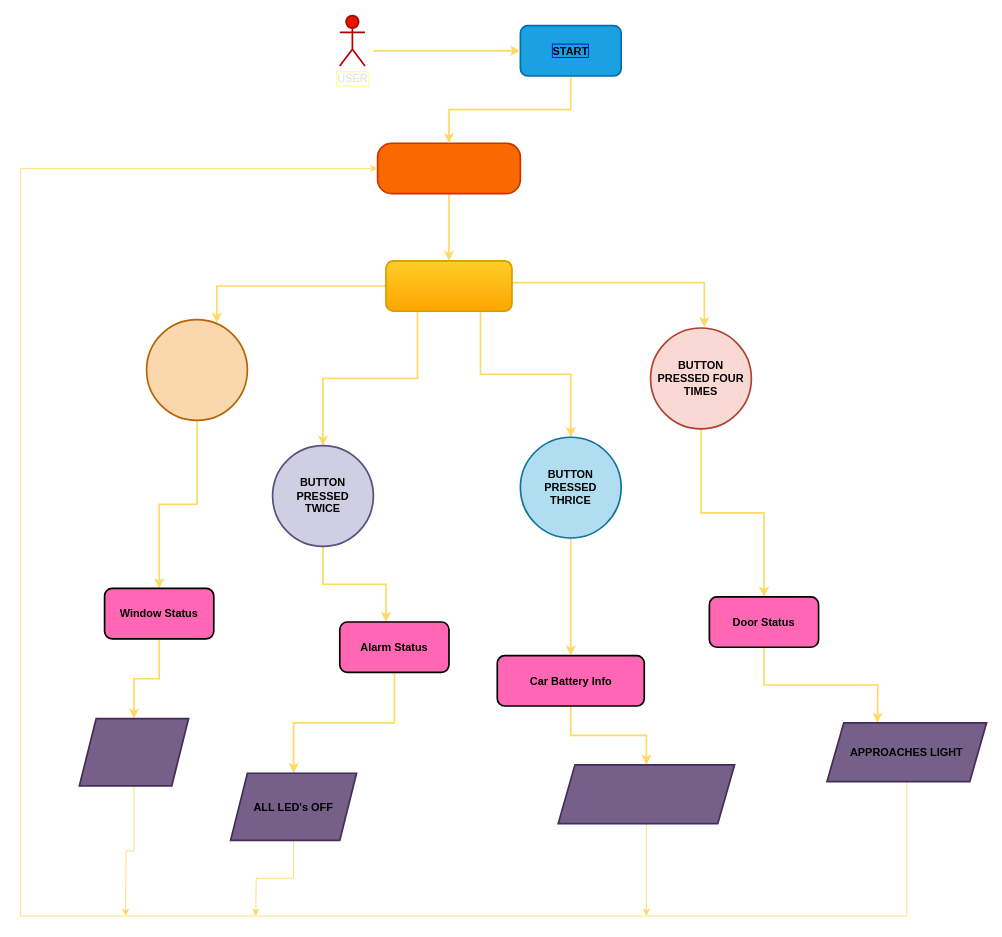
Image size: 1002x937. Some labels were removed from this diagram. The shapes that lost their labels are listed below. From the top down, each one's centre as x and y in pixels, then its label:
At point (448, 168): "BLUE SWITCH PRESS".
At point (448, 286): "DATA ENCRYPTION".
At point (196, 369): "BUTTON PRESSED ONCE".
At point (133, 751): "ALL LED's ON".
At point (646, 794): "ALARM GETS ACTIVATED/DEACTIVATED".
